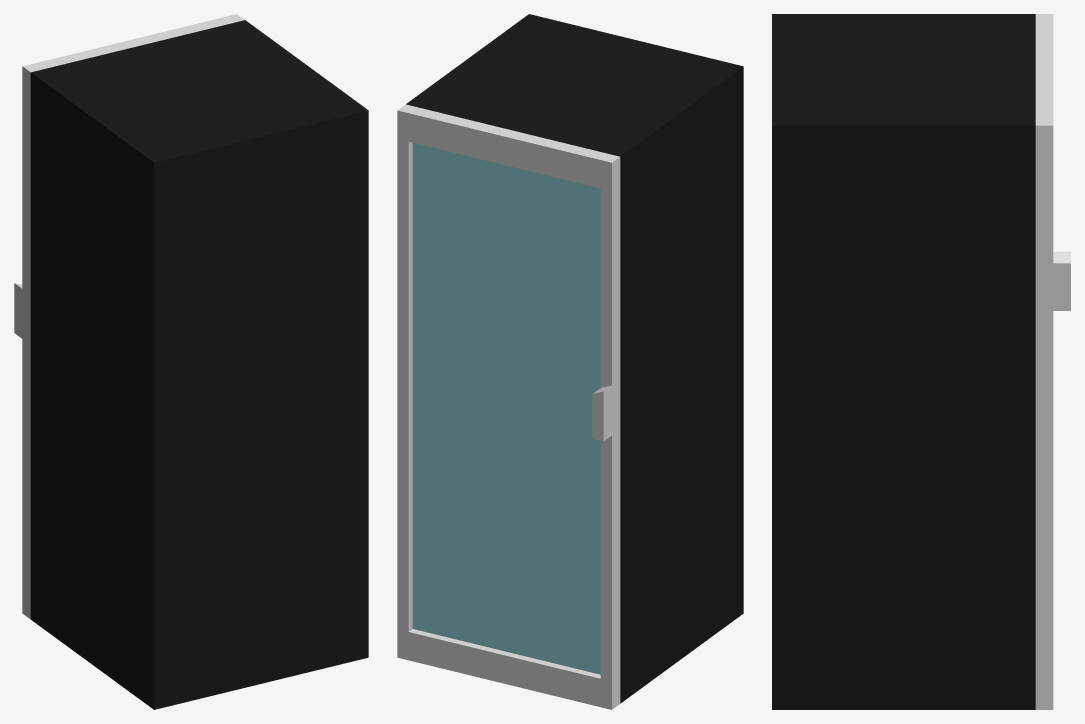
The model's file is Fridge.fbx.
3 renders of one model, left to right at view 1: azimuth 30°, elevation 25°; view 2: azimuth 150°, elevation 25°; view 3: azimuth 270°, elevation 25°, orthographic. The views are drawn at different scales.
Visible parts, largest first — view 1: Fridge; view 2: Fridge; view 3: Fridge.
Boxes of the visible parts, x1,y1,x2,y2 form: Fridge: [14, 14, 368, 709]; Fridge: [397, 14, 743, 709]; Fridge: [772, 14, 1070, 709].
Bounding box in the file's own units: 112 × 274 × 127.
